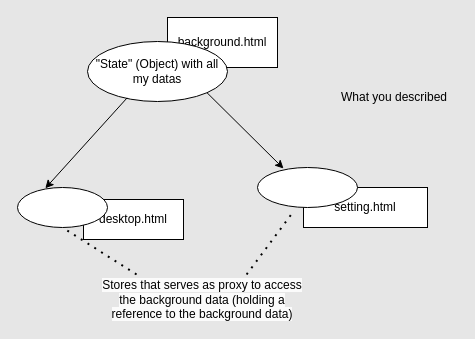
Some shapes in this 475 by 339 pixel diagram are drawn without their labels. Here are the shapes that lost their labels. From the top down, the centre of each, then its label:
the point at 62,207: Desktop Store
the point at 307,187: Settings Store
